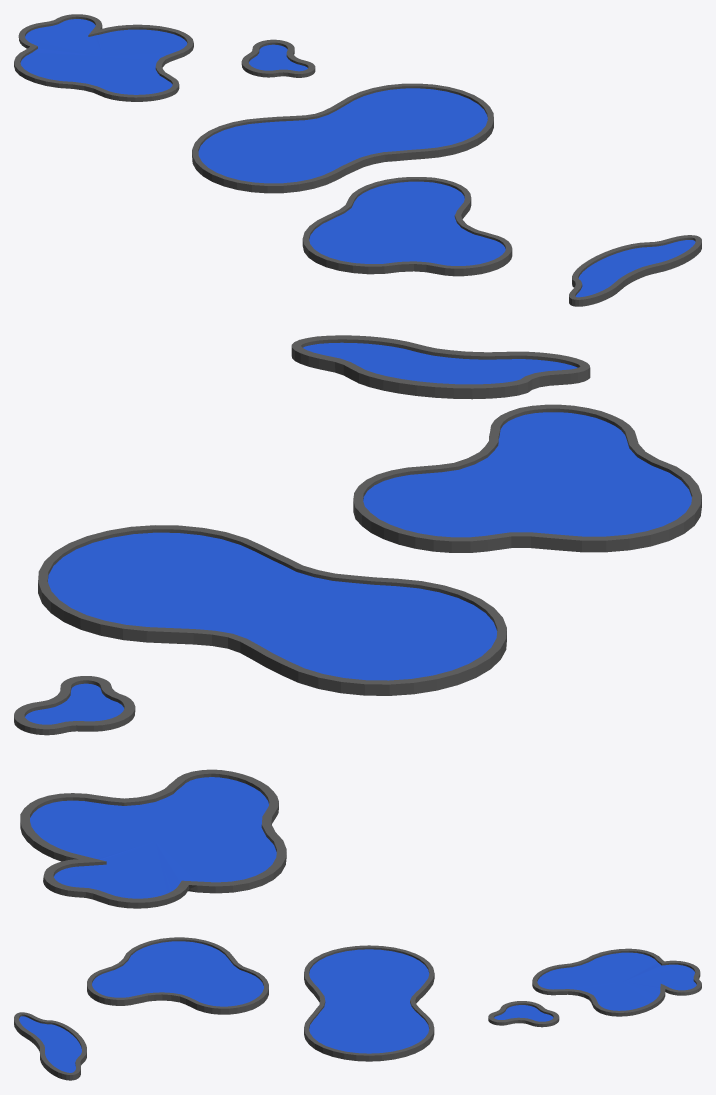
Rendered from Ponds.fbx.
3 renders of one model, top to bottom at view 1: azimuth 30°, elevation 25°; view 2: azimuth 150°, elevation 25°; view 3: azimuth 270°, elevation 25°, orthographic. The views are drawn at different scales.
Parts seen in each view (by area): view 1: Cylinder.009, Cylinder.012, Cylinder.010, Cylinder.013, Cylinder.007; view 2: Cylinder.009, Cylinder.012, Cylinder.010, Cylinder.013, Cylinder.007; view 3: Cylinder.009, Cylinder.012, Cylinder.010, Cylinder.013, Cylinder.007.
Part boxes in pixels (x1,y1,x2,y2): Cylinder.009: [192, 83, 493, 193]; Cylinder.012: [302, 177, 512, 276]; Cylinder.010: [14, 14, 193, 101]; Cylinder.013: [569, 235, 701, 306]; Cylinder.007: [241, 39, 315, 77]; Cylinder.009: [38, 525, 506, 695]; Cylinder.012: [353, 404, 701, 552]; Cylinder.010: [20, 769, 286, 908]; Cylinder.013: [291, 335, 590, 399]; Cylinder.007: [14, 676, 135, 735]; Cylinder.009: [304, 945, 434, 1061]; Cylinder.012: [87, 937, 268, 1014]; Cylinder.010: [532, 948, 701, 1016]; Cylinder.013: [14, 1012, 86, 1080]; Cylinder.007: [488, 1001, 559, 1027].
Bounding box in the file's own units: 9513 × 670 × 21072.
